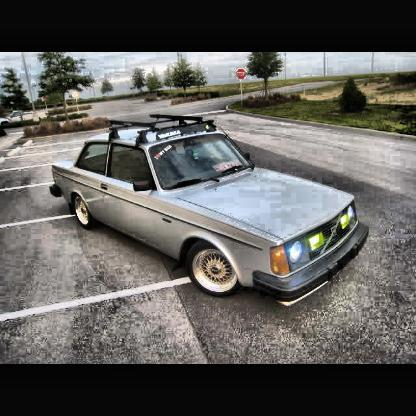Volvo 240 Sedan 1993: (49, 116, 372, 309)
